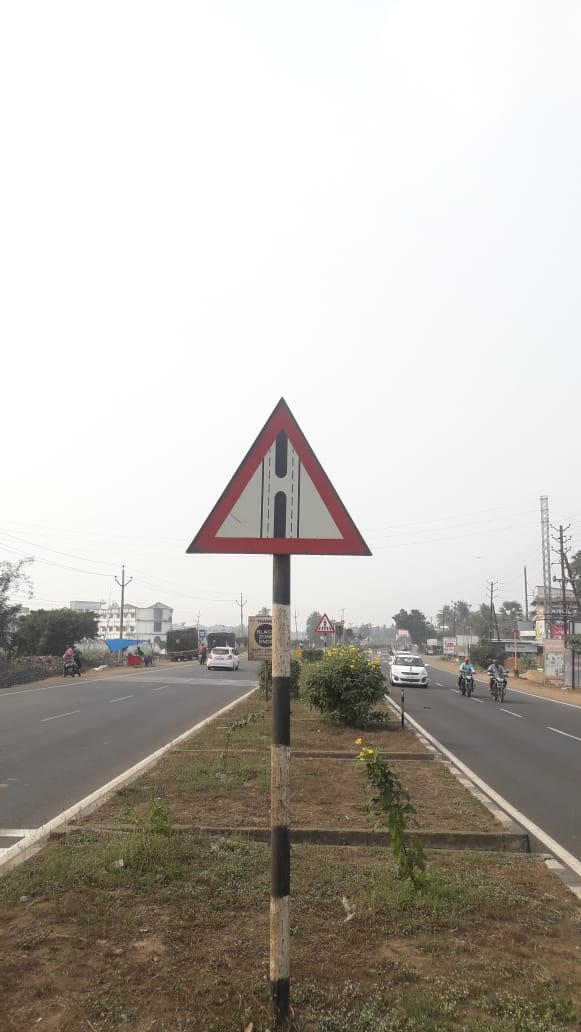highway go straight: (169, 386, 391, 579)
